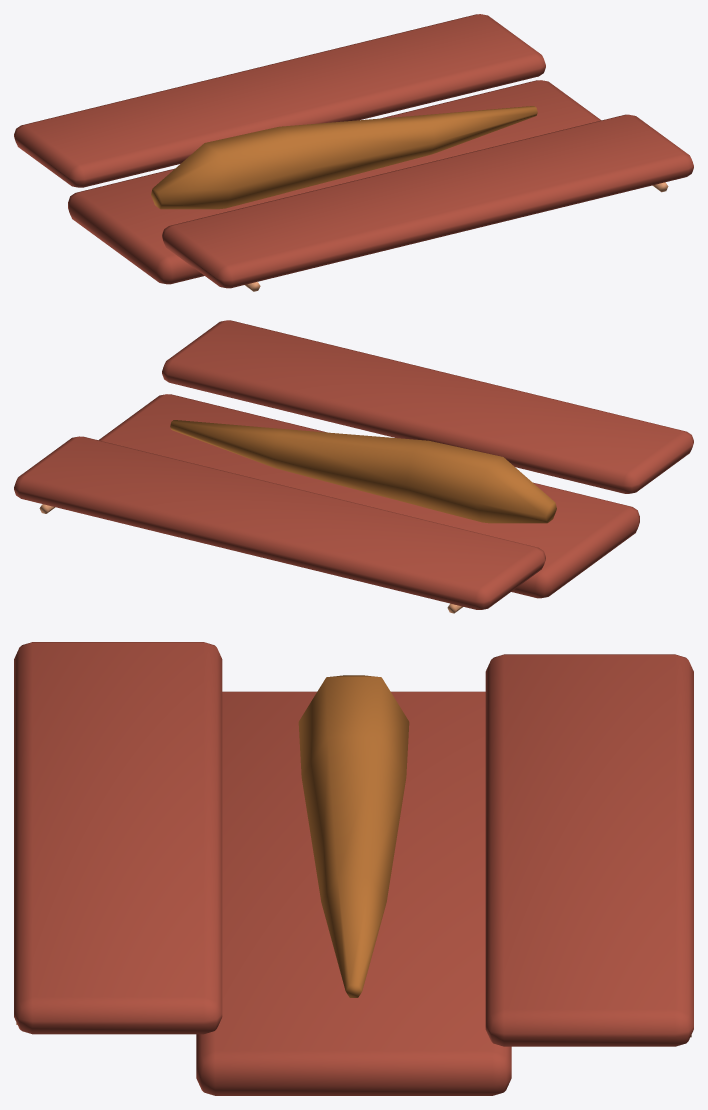
File: weaving-tool-roll.glb
The picture shows the model from 3 angles, top to bottom: view 1: azimuth 30°, elevation 25°; view 2: azimuth 150°, elevation 25°; view 3: azimuth 270°, elevation 25°; orthographic projection. The views are drawn at different scales.
Parts seen in each view (by area): view 1: fold, fold.001, wooden weaving peg, cloth base; view 2: fold.001, fold, wooden weaving peg, cloth base; view 3: cloth base, fold, fold.001, wooden weaving peg.
Part boxes in pixels (left/top/right/bottom): fold: left=162, top=114, right=693, bottom=288; fold.001: left=14, top=14, right=545, bottom=187; wooden weaving peg: left=151, top=106, right=537, bottom=209; cloth base: left=68, top=80, right=601, bottom=284; fold.001: left=14, top=436, right=545, bottom=609; fold: left=162, top=320, right=693, bottom=493; wooden weaving peg: left=170, top=420, right=556, bottom=523; cloth base: left=98, top=394, right=639, bottom=598; cloth base: left=196, top=691, right=511, bottom=1095; fold: left=14, top=642, right=222, bottom=1034; fold.001: left=485, top=654, right=693, bottom=1046; wooden weaving peg: left=298, top=675, right=409, bottom=997.
Bounding box in the file's own units: 1.49 × 0.2394 × 1.14.
